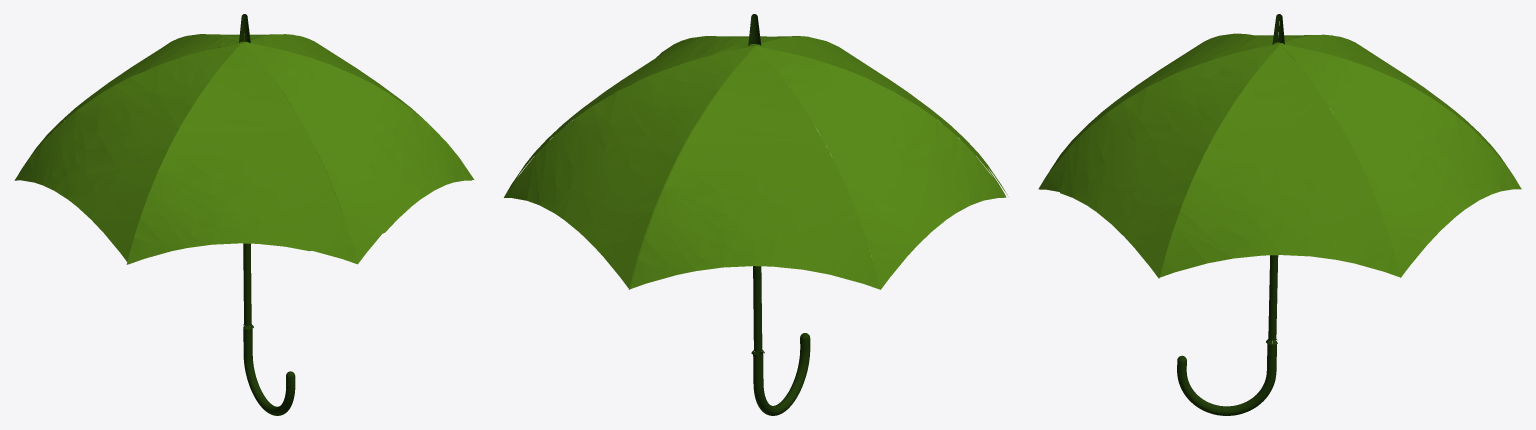
3 renders of one model, left to right at view 1: azimuth 30°, elevation 25°; view 2: azimuth 150°, elevation 25°; view 3: azimuth 270°, elevation 25°, orthographic. The views are drawn at different scales.
Parts seen in each view (by area): view 1: Default_B3F5608A_1452_4FE9_BE0B_4A8489E141F0_, Default; view 2: Default_B3F5608A_1452_4FE9_BE0B_4A8489E141F0_, Default; view 3: Default_B3F5608A_1452_4FE9_BE0B_4A8489E141F0_, Default.
Part boxes in pixels (x1,y1,x2,y2): Default_B3F5608A_1452_4FE9_BE0B_4A8489E141F0_: (14,34,474,264); Default: (239,14,295,415); Default_B3F5608A_1452_4FE9_BE0B_4A8489E141F0_: (504,36,1008,289); Default: (748,14,810,415); Default_B3F5608A_1452_4FE9_BE0B_4A8489E141F0_: (1038,33,1521,278); Default: (1177,14,1284,415).
Size of the model in its own units: 51.92 by 53.97 by 58.99.
